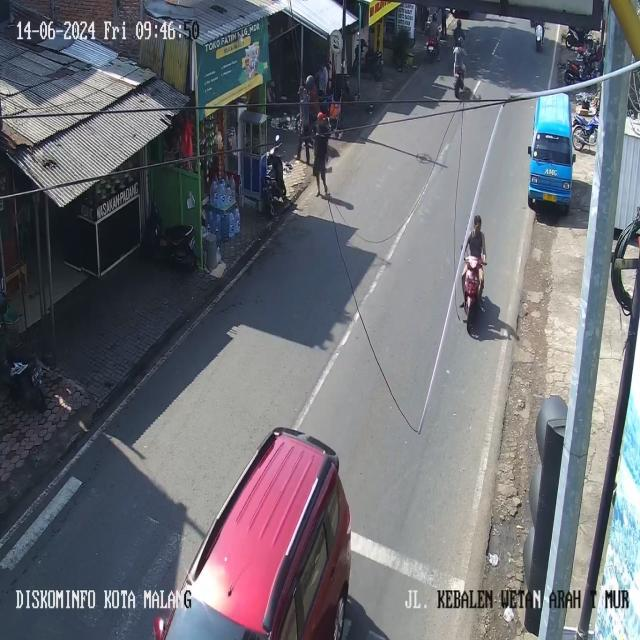Helmet: (317, 112, 326, 122), (457, 19, 462, 28), (457, 37, 462, 46)
Number Plate: (543, 193, 556, 201)
Rearview Mirror: (153, 617, 164, 639), (275, 134, 280, 143), (528, 146, 531, 155), (572, 153, 575, 162)
